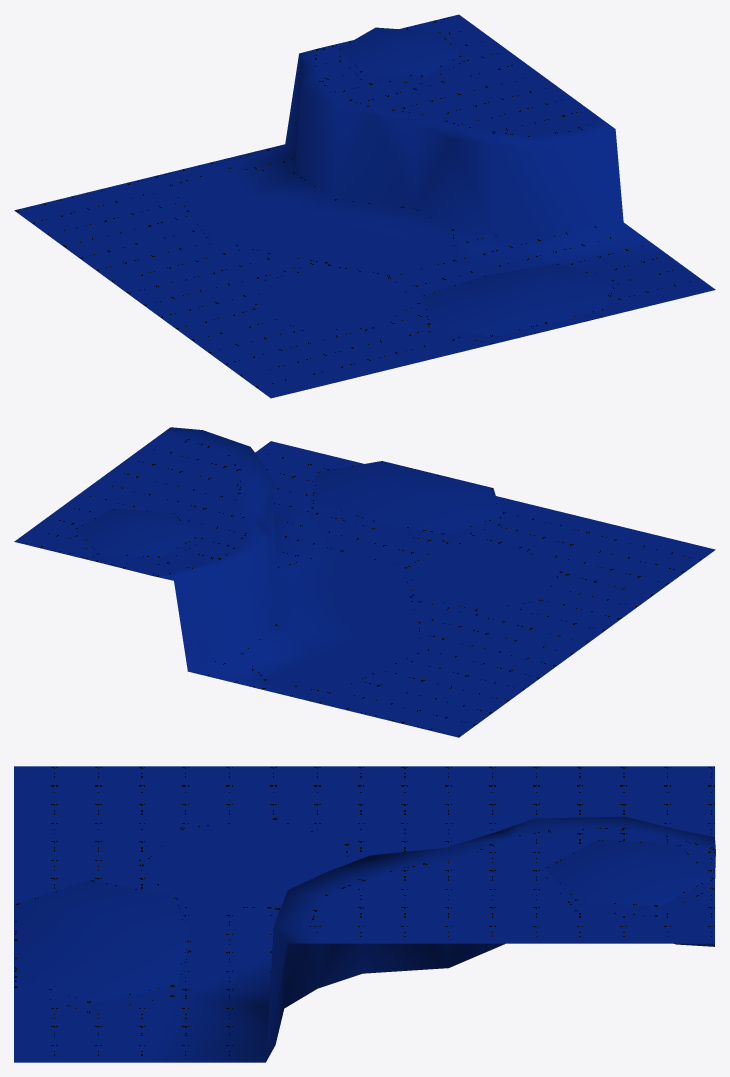
Rendered from GRD_S_C7_1.fbx.
3 renders of one model, top to bottom at view 1: azimuth 30°, elevation 25°; view 2: azimuth 150°, elevation 25°; view 3: azimuth 270°, elevation 25°, orthographic. The views are drawn at different scales.
Visible parts, largest first — view 1: material_00032000, material_00022000, material_C0042000, material_C0012000, material_C0052000; view 2: material_00032000, material_C0042000, material_C0012000, material_00022000, material_C0052000; view 3: material_00032000, material_C0012000, material_00022000, material_C0042000, material_C0052000.
Boxes of the visible parts, x1,y1,x2,y2 form: material_00032000: [14, 14, 715, 398]; material_00022000: [285, 48, 623, 236]; material_C0042000: [168, 167, 457, 331]; material_C0012000: [338, 27, 614, 336]; material_C0052000: [338, 54, 614, 343]; material_00032000: [14, 436, 715, 737]; material_C0042000: [240, 542, 562, 693]; material_C0012000: [74, 461, 502, 557]; material_00022000: [153, 427, 276, 671]; material_C0052000: [74, 502, 502, 564]; material_00032000: [14, 766, 715, 1062]; material_C0012000: [14, 839, 714, 1003]; material_00022000: [266, 816, 715, 1061]; material_C0042000: [138, 817, 350, 953]; material_C0052000: [14, 875, 714, 1013].
Size of the model in its own units: 12800 by 2800 by 12820.
